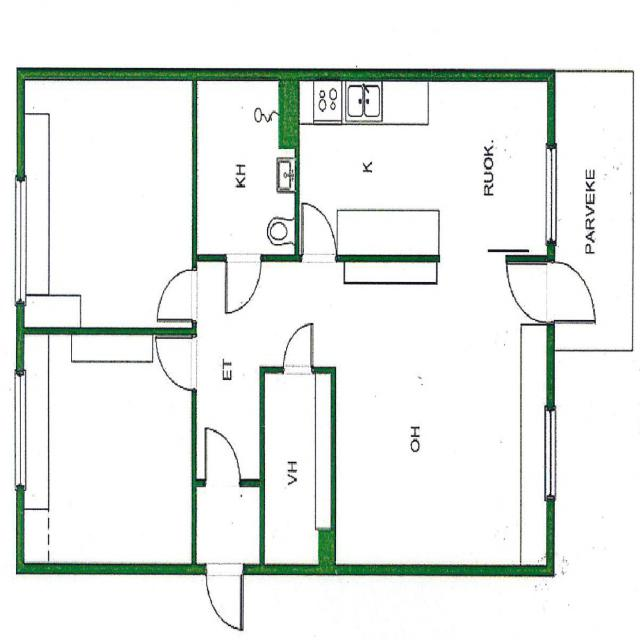door: (547, 264, 593, 320), (509, 264, 555, 320), (207, 565, 243, 628), (227, 254, 262, 314), (206, 428, 240, 487), (159, 270, 197, 320), (159, 338, 197, 388), (303, 204, 336, 261), (284, 323, 312, 373)
